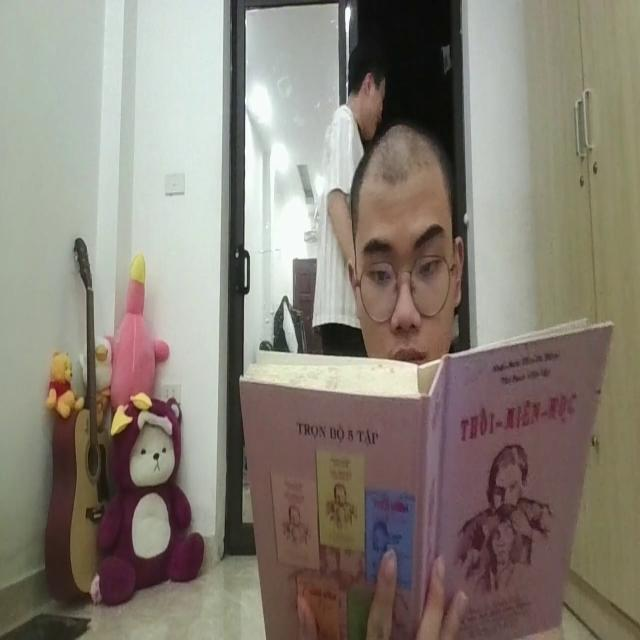book: (234, 310, 615, 640)
extra_person: (315, 53, 383, 369)
student: (336, 117, 468, 366)
